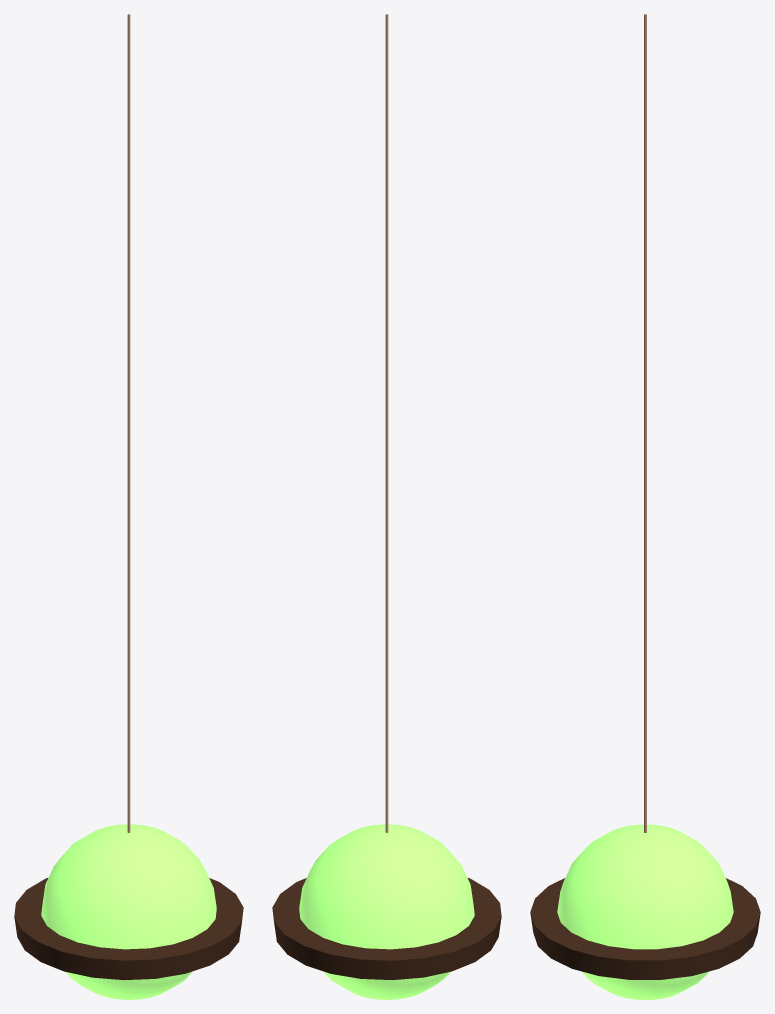
Rendered from Luce 1 Verde .fbx.
3 views of the same model, side by side, from view 1: azimuth 30°, elevation 25°; view 2: azimuth 150°, elevation 25°; view 3: azimuth 270°, elevation 25° (orthographic).
Parts seen in each view (by area): view 1: Sphere.021; view 2: Sphere.021; view 3: Sphere.021.
Part boxes in pixels (left/top/right/bottom): Sphere.021: left=14, top=14, right=243, bottom=999; Sphere.021: left=272, top=14, right=501, bottom=999; Sphere.021: left=530, top=14, right=760, bottom=999.
Bounding box in the file's own units: 49.96 × 236 × 50.47.
